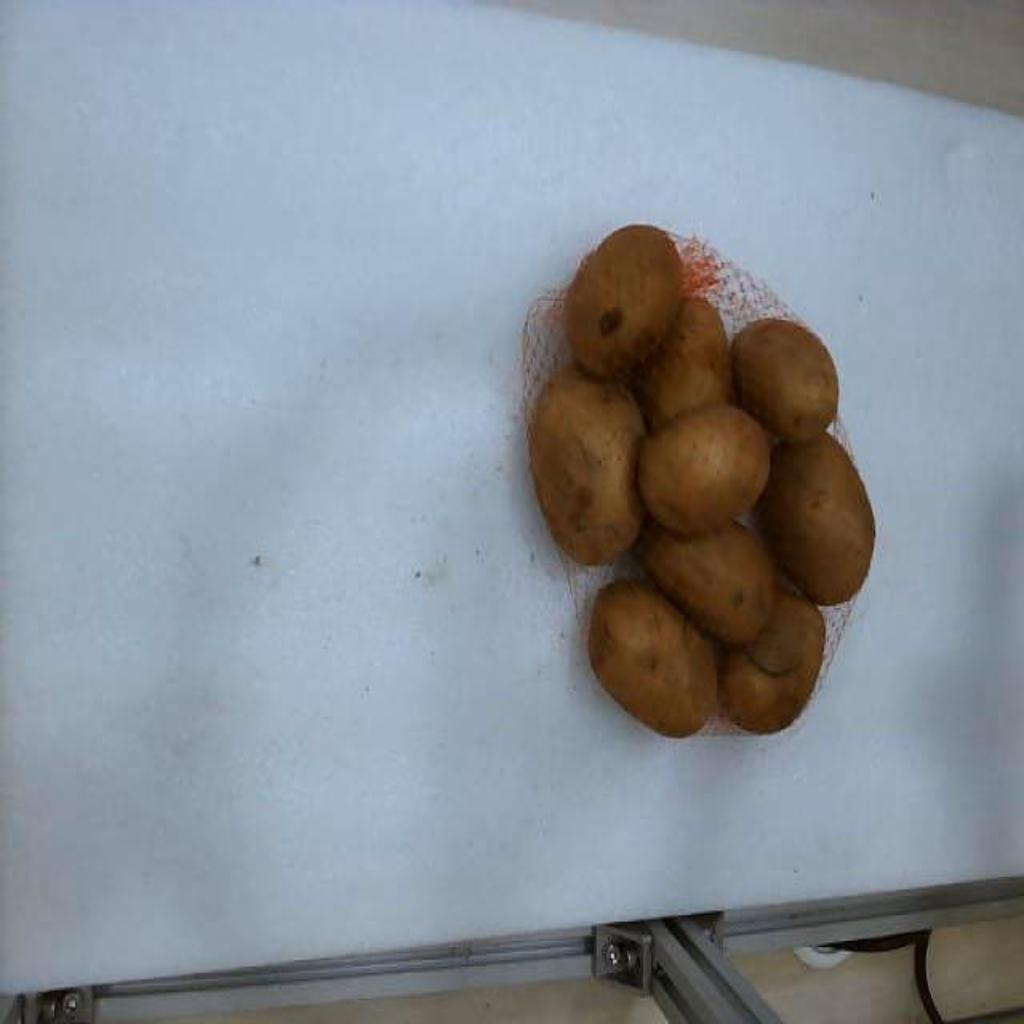potato: (530, 365, 646, 564), (588, 579, 716, 735), (758, 435, 876, 604), (564, 224, 682, 375), (638, 405, 770, 537), (638, 523, 776, 644), (718, 587, 824, 732), (730, 317, 838, 443), (636, 299, 732, 428), (746, 584, 824, 675)
